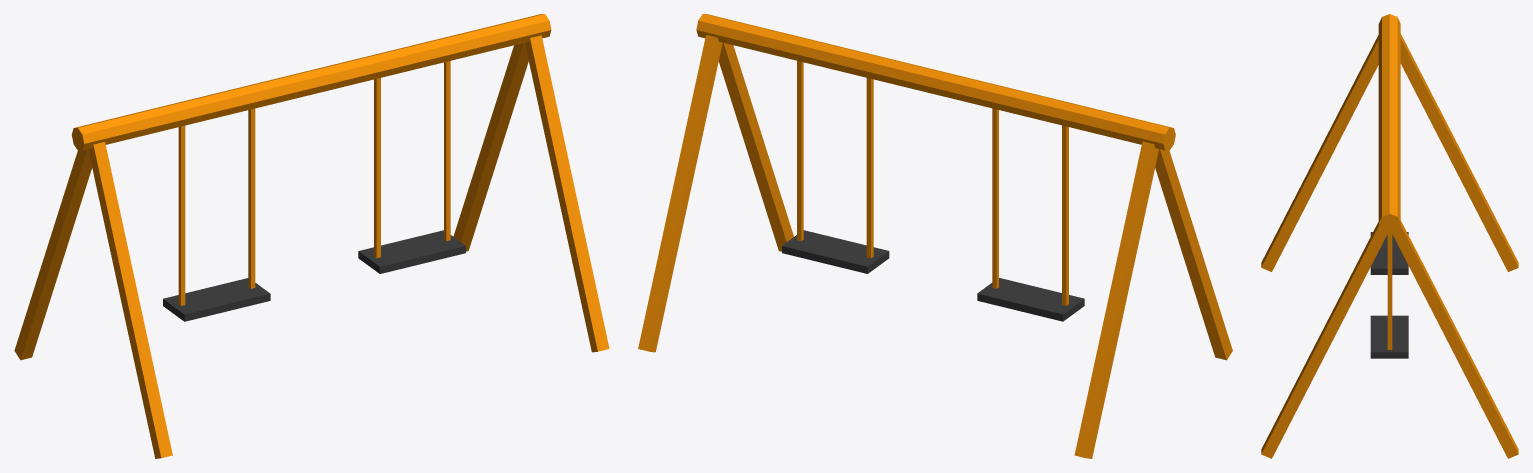
File: 037 Swing.FBX
The picture shows the model from 3 angles, left to right: view 1: azimuth 30°, elevation 25°; view 2: azimuth 150°, elevation 25°; view 3: azimuth 270°, elevation 25°; orthographic projection. The views are drawn at different scales.
Visible parts, largest first — view 1: Line131, Box248, Box249; view 2: Line131, Box249, Box248; view 3: Line131, Box249, Box248.
Part boxes in pixels (x1,y1,x2,y2): Line131: [14, 14, 609, 458]; Box248: [163, 108, 270, 321]; Box249: [358, 61, 465, 273]; Line131: [638, 14, 1232, 458]; Box249: [782, 61, 889, 273]; Box248: [977, 108, 1084, 321]; Line131: [1261, 14, 1518, 458]; Box249: [1370, 233, 1408, 358]; Box248: [1370, 232, 1408, 274].
Size of the model in its own units: 322 by 187 by 176.
